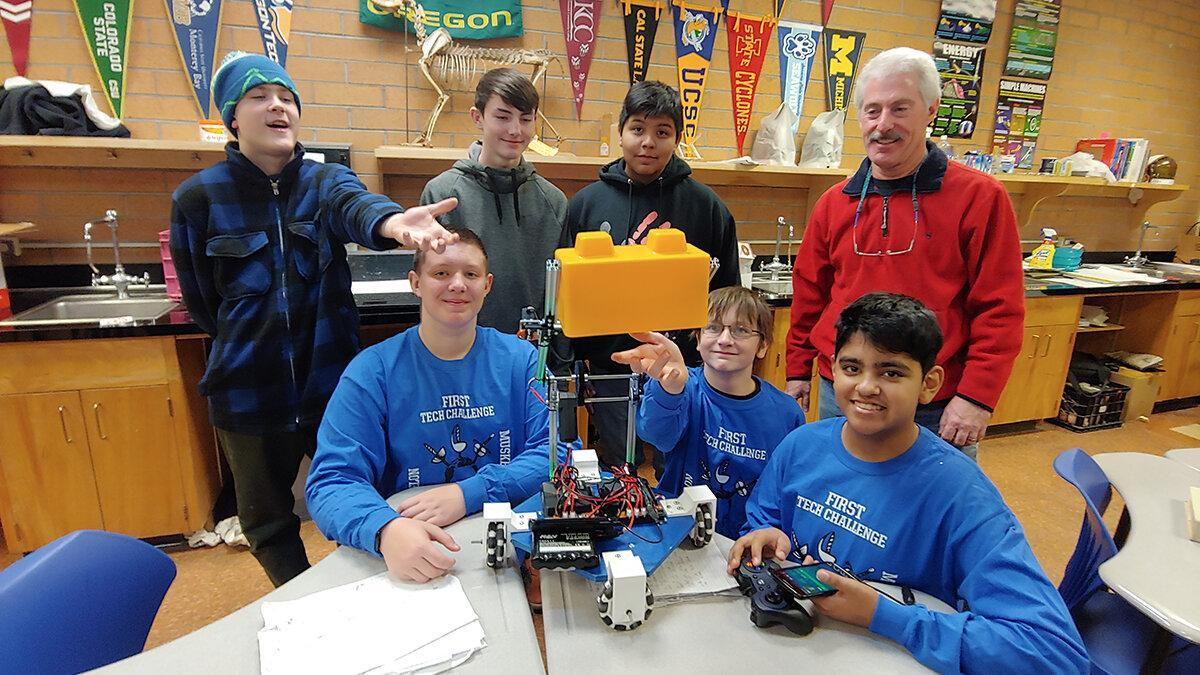robot: (478, 248, 718, 644)
